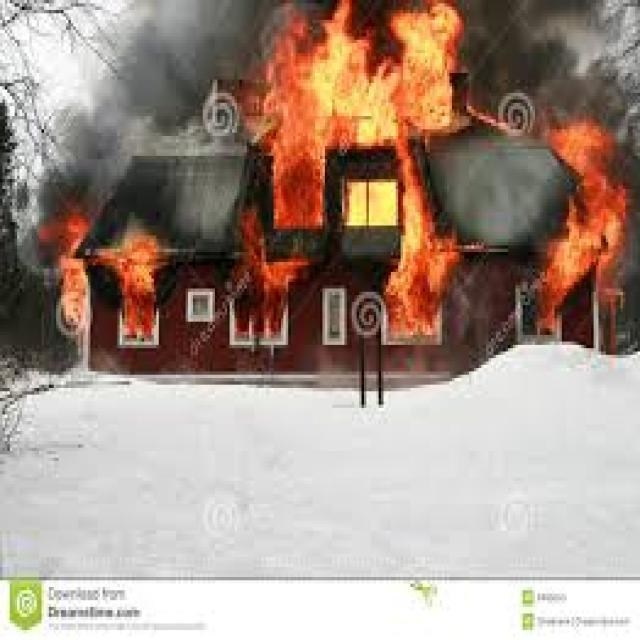Fire: (259, 5, 461, 146), (544, 124, 624, 314), (392, 154, 444, 336), (232, 250, 302, 330), (113, 231, 160, 340), (48, 217, 89, 328), (270, 151, 325, 229)
Smoke: (83, 6, 242, 210), (466, 0, 630, 109)
